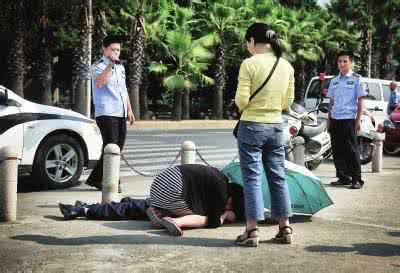fall: (46, 155, 268, 233)
